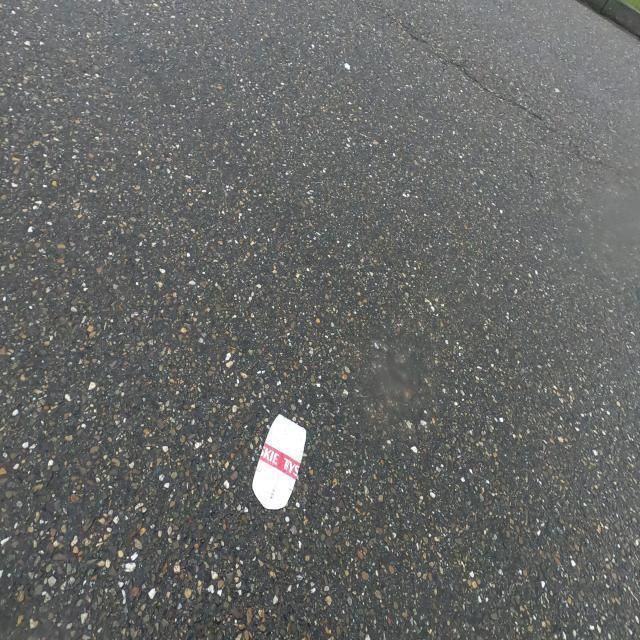Can-Metal: (252, 412, 308, 512)
